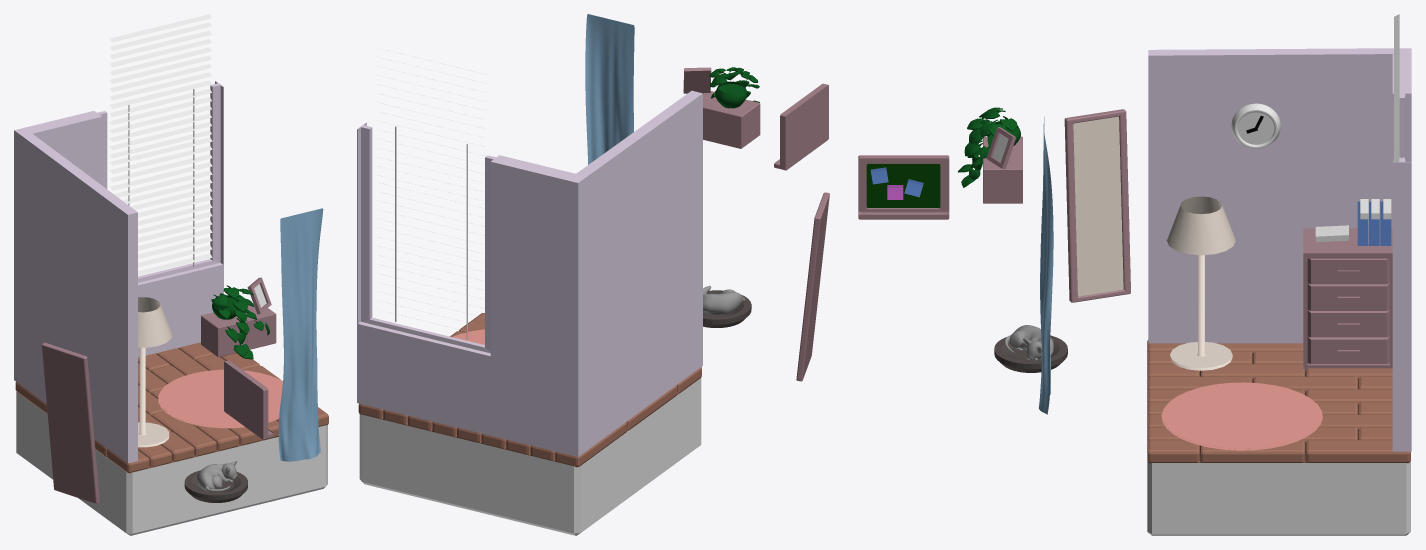
Rendered from 养成房间1.9.fbx_Scene_Scene_Collection.fbx.
3 views of the same model, side by side, from view 1: azimuth 30°, elevation 25°; view 2: azimuth 150°, elevation 25°; view 3: azimuth 270°, elevation 25° (orthographic). The views are drawn at different scales.
Visible parts, largest first — view 1: Cube, Cube.002, 窗帘, Cube.005, Cube.004, Cube.003, Cube.001, 地毯, 圆环, 立方体.018, 立方体.006, 圆环.014 (+3 smaller); view 2: Cube, Cube.002, 窗帘, Cube.004, 立方体.018, 立方体.006, Cube.001, 圆环.014, 球体.001, 柱体.005, Cube.007; view 3: Cube, Cube.002, Cube.004, 立方体.004, 地毯, Cube.006, 圆环, Cube.001, 窗帘, 立方体.018, 立方体.020, 立方体.006 (+5 smaller).
Part boxes in pixels (x1=…): Cube: x1=14, y1=81, x2=223, y2=463; Cube.002: x1=16, y1=391, x2=327, y2=535; 窗帘: x1=278, y1=208, x2=323, y2=461; Cube.005: x1=109, y1=14, x2=211, y2=158; Cube.004: x1=15, y1=342, x2=328, y2=473; Cube.003: x1=110, y1=137, x2=212, y2=275; Cube.001: x1=41, y1=342, x2=99, y2=503; 地毯: x1=158, y1=368, x2=282, y2=428; 圆环: x1=138, y1=297, x2=172, y2=447; 立方体.018: x1=224, y1=360, x2=273, y2=439; 立方体.006: x1=201, y1=303, x2=276, y2=357; 圆环.014: x1=211, y1=285, x2=269, y2=359; Cube: x1=357, y1=90, x2=702, y2=456; Cube.002: x1=359, y1=378, x2=701, y2=535; 窗帘: x1=585, y1=14, x2=634, y2=164; Cube.004: x1=358, y1=313, x2=701, y2=467; 立方体.018: x1=774, y1=83, x2=828, y2=170; 立方体.006: x1=703, y1=91, x2=760, y2=148; Cube.001: x1=796, y1=192, x2=829, y2=381; 圆环.014: x1=709, y1=67, x2=759, y2=108; 球体.001: x1=703, y1=285, x2=745, y2=314; 柱体.005: x1=703, y1=290, x2=751, y2=327; Cube.007: x1=683, y1=67, x2=711, y2=93; Cube: x1=1148, y1=48, x2=1411, y2=451; Cube.002: x1=1147, y1=461, x2=1410, y2=535; Cube.004: x1=1147, y1=340, x2=1410, y2=463; 立方体.004: x1=1303, y1=228, x2=1392, y2=370; 地毯: x1=1161, y1=380, x2=1322, y2=450; Cube.006: x1=1073, y1=116, x2=1123, y2=296; 圆环: x1=1166, y1=196, x2=1235, y2=370; Cube.001: x1=1064, y1=109, x2=1130, y2=302; 窗帘: x1=1038, y1=117, x2=1053, y2=414; 立方体.018: x1=858, y1=155, x2=949, y2=219; 立方体.020: x1=866, y1=164, x2=940, y2=207; 立方体.006: x1=983, y1=136, x2=1022, y2=203.
Size of the model in its own units: 494 by 630 by 685.
